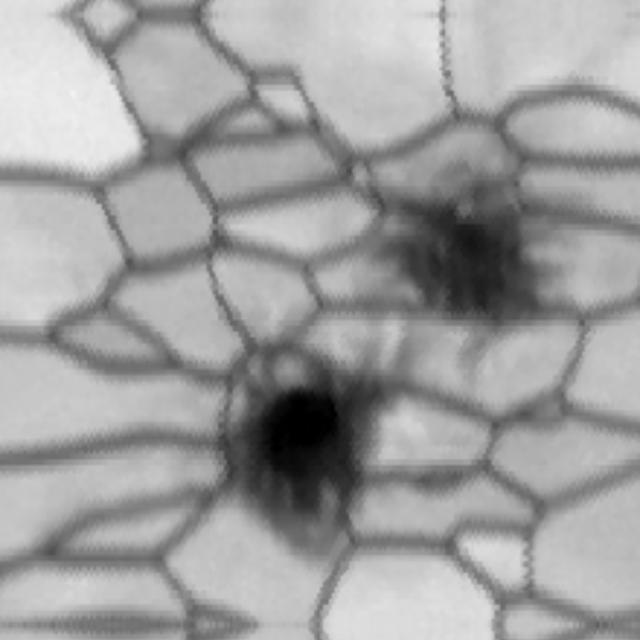good_void: (183, 321, 419, 566), (340, 146, 580, 358)
